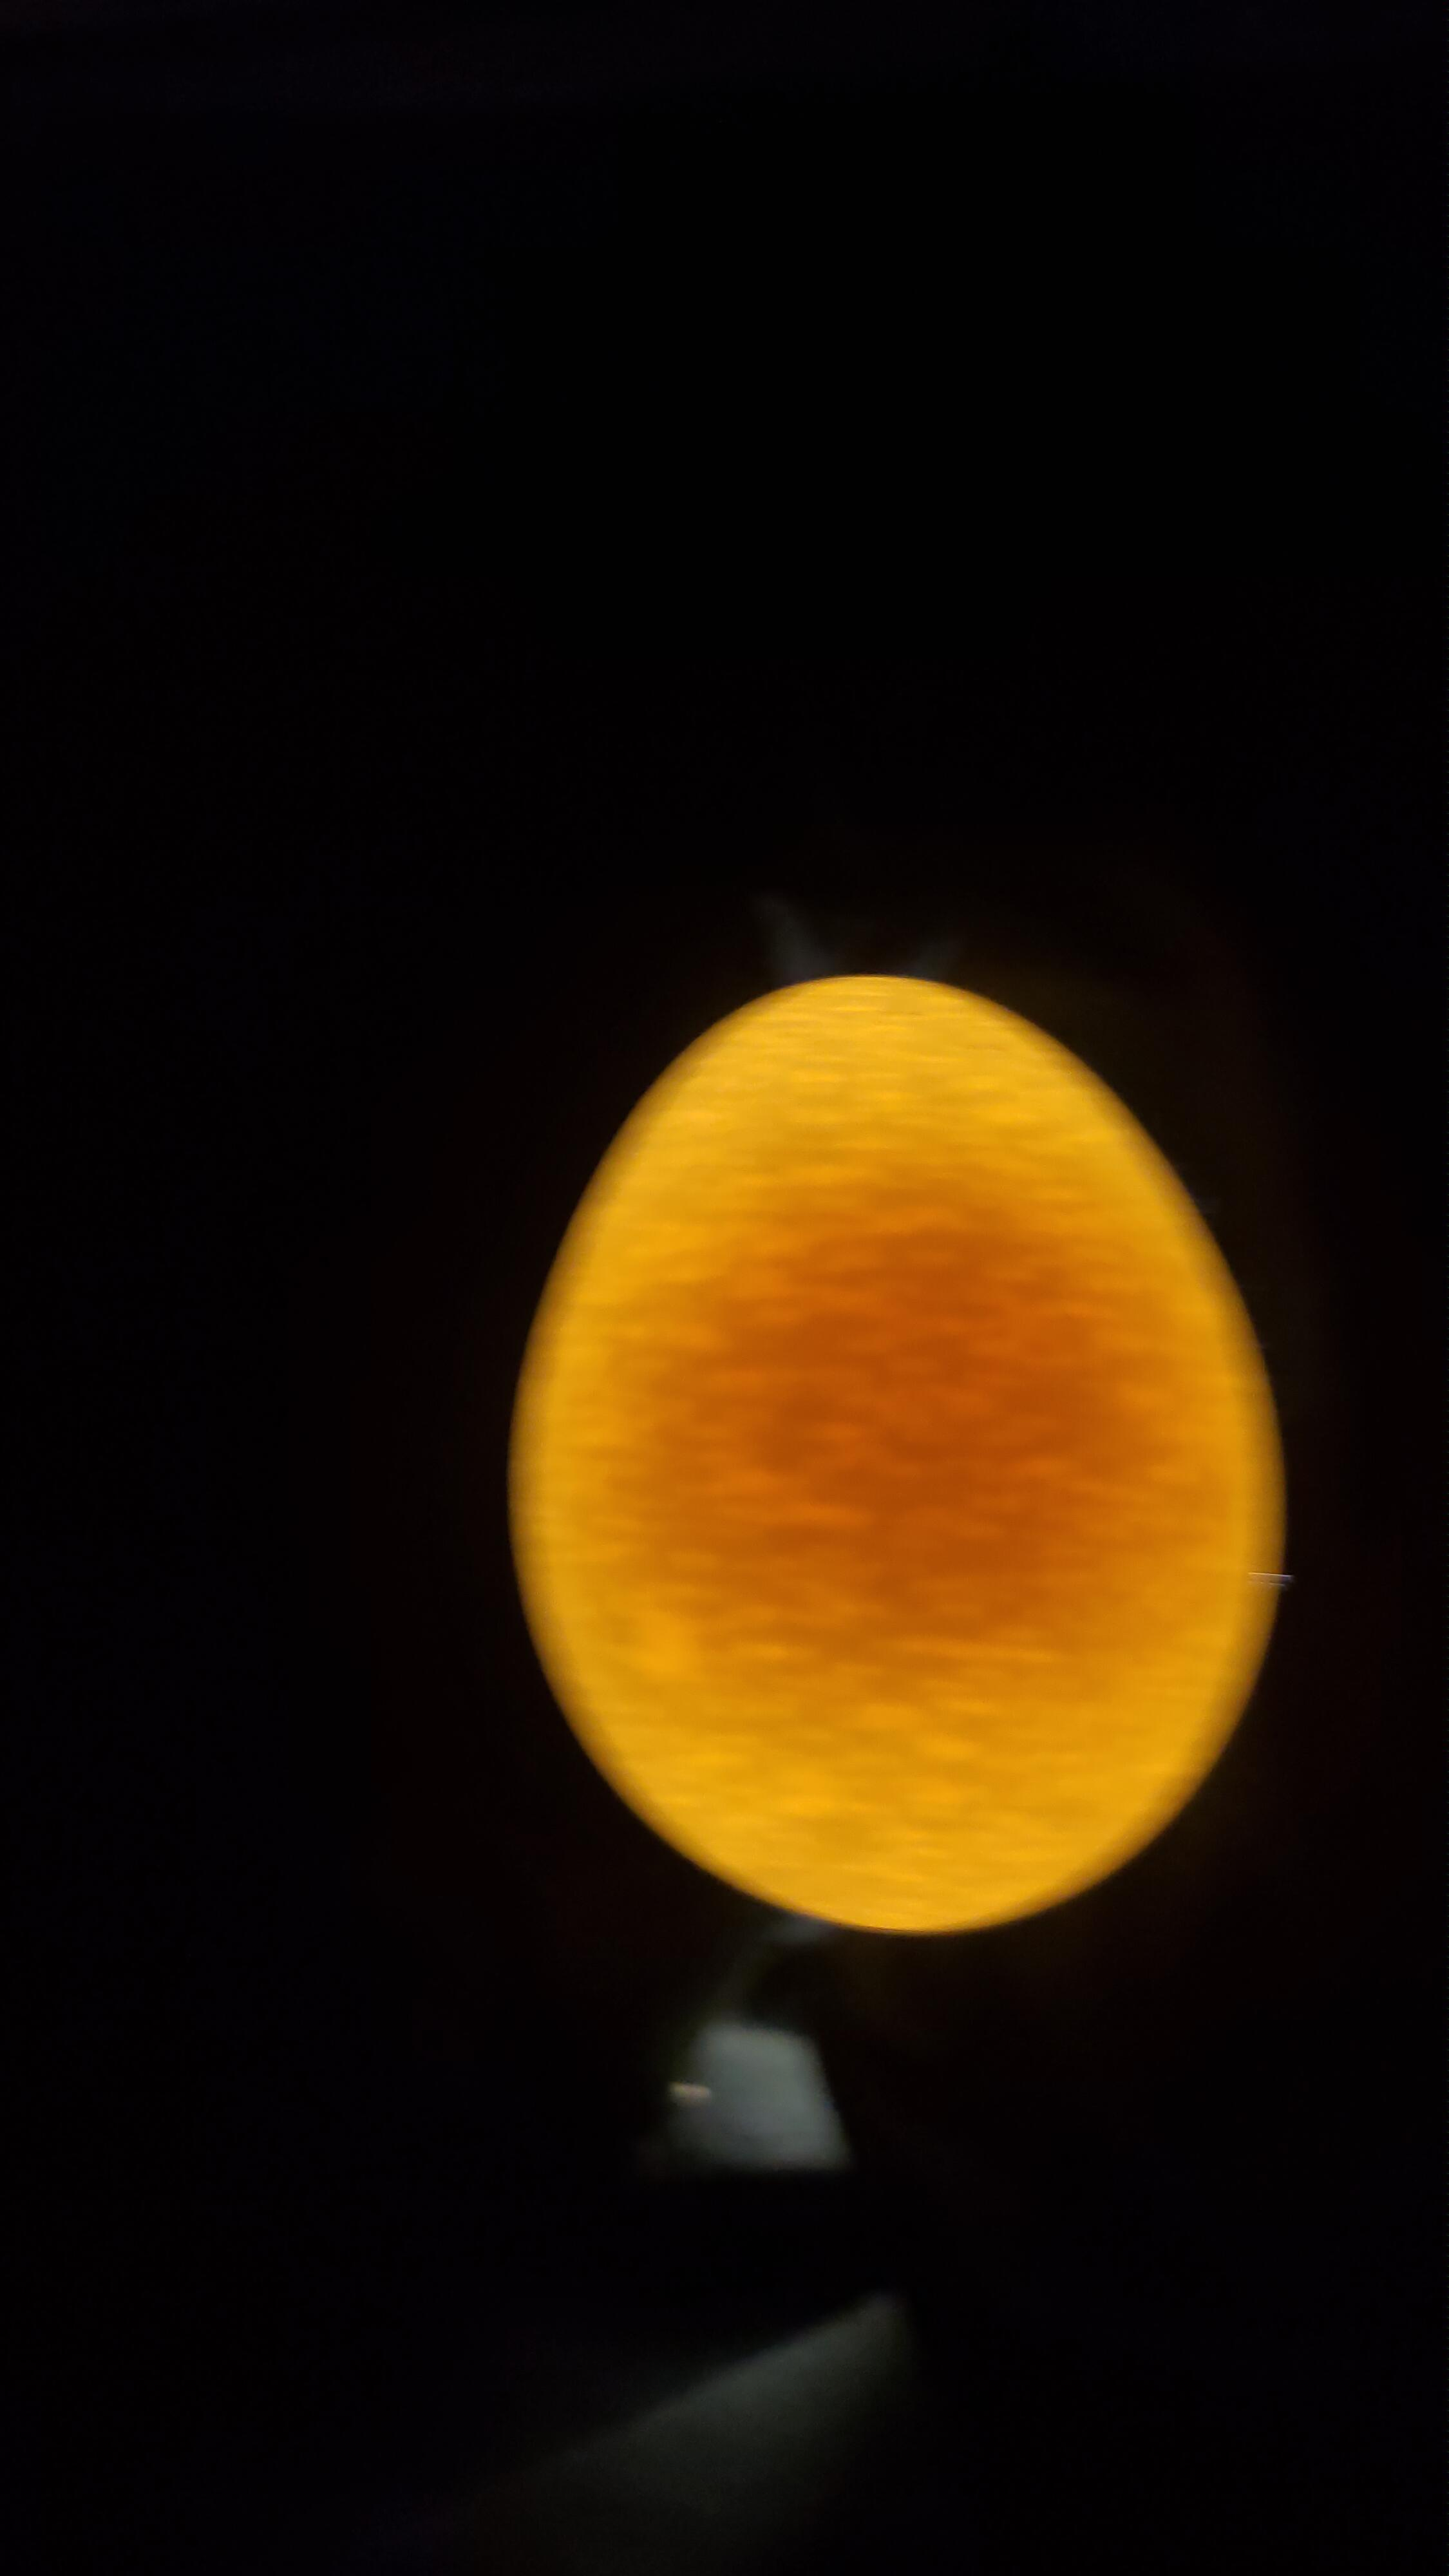A - Good: (471, 947, 1332, 1959)
